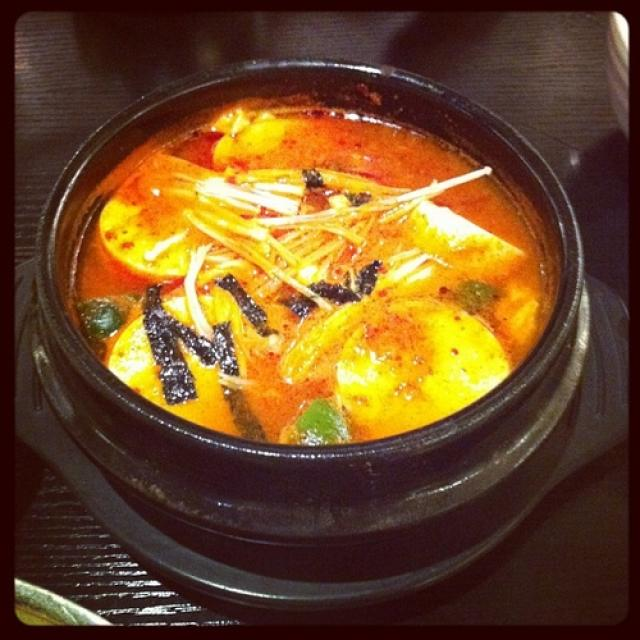汤锅炖物: (47, 64, 581, 495)
